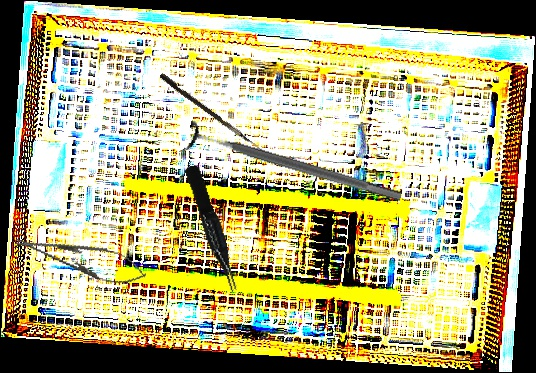Fixation Ring: (182, 119, 406, 214)
Hook Surgical: (157, 72, 280, 162)
Needle Holder: (11, 225, 150, 291)
Tissue Forceps: (184, 162, 240, 296)
